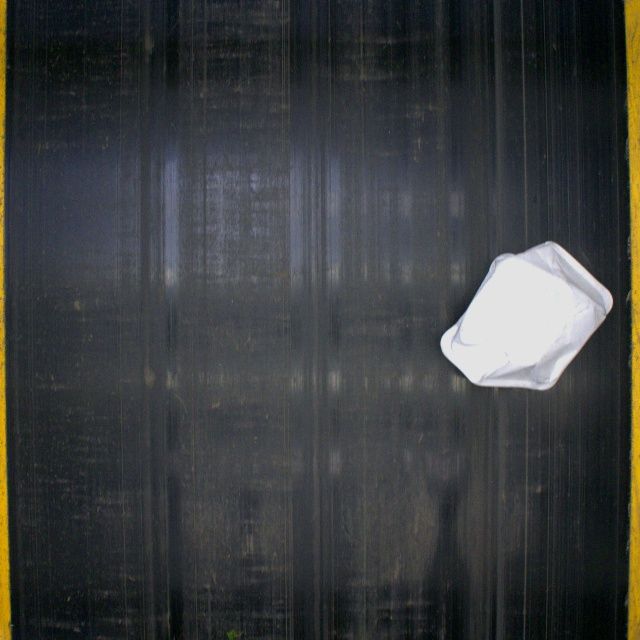Foodgrade: (438, 232, 613, 388)
